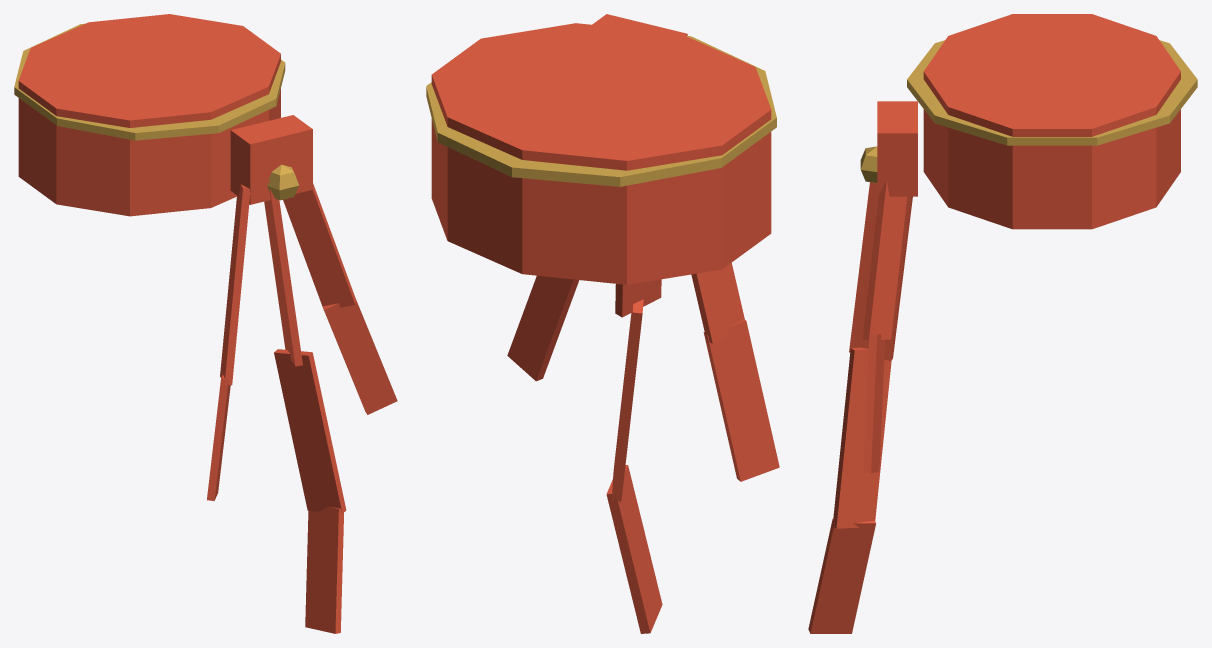
Rendered from gear_tti_t4.glb.
The picture shows the model from 3 angles, left to right: view 1: azimuth 30°, elevation 25°; view 2: azimuth 150°, elevation 25°; view 3: azimuth 270°, elevation 25°; orthographic projection. The views are drawn at different scales.
Parts seen in each view (by area): view 1: gear_tti_t4; view 2: gear_tti_t4; view 3: gear_tti_t4.
Boxes of the visible parts, left/top/right/bottom form: gear_tti_t4: left=14, top=14, right=397, bottom=633; gear_tti_t4: left=426, top=14, right=779, bottom=633; gear_tti_t4: left=808, top=14, right=1197, bottom=633.
Bounding box in the file's own units: 0.5673 × 1 × 0.6672.
